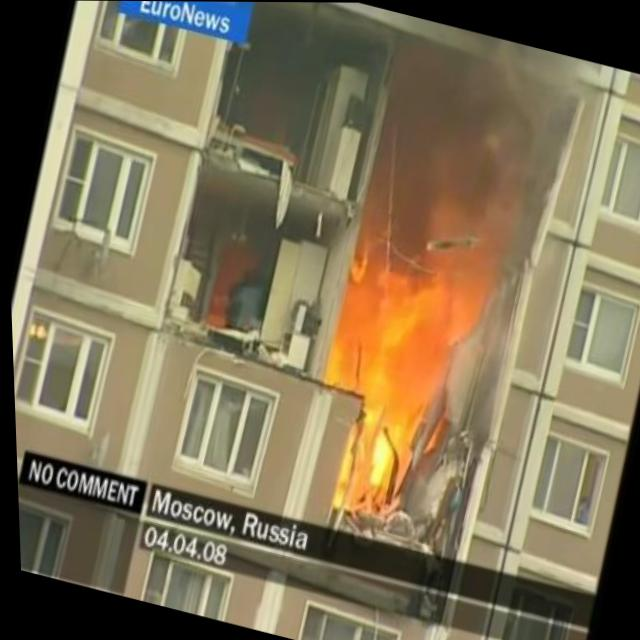fire: (328, 373, 426, 519), (315, 334, 370, 391)
